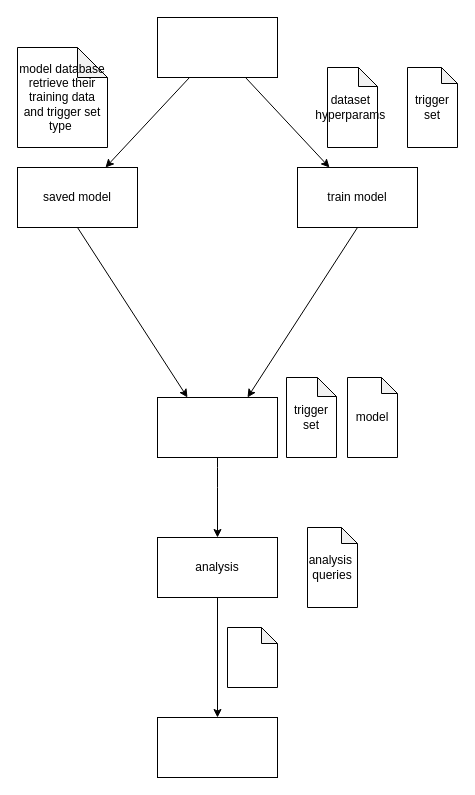
The diagram is 475 pixels wide and 795 high, and some of its shapes have lost their labels. The shapes that lost their labels are listed below. From the top down, each one's box as (x1, y1, x2, y2) in pixels, then its label:
(156, 16, 278, 78): start
(156, 396, 278, 458): Process ( remove WM, add WM, usecases)
(226, 626, 278, 688): results
(156, 716, 278, 778): display results
